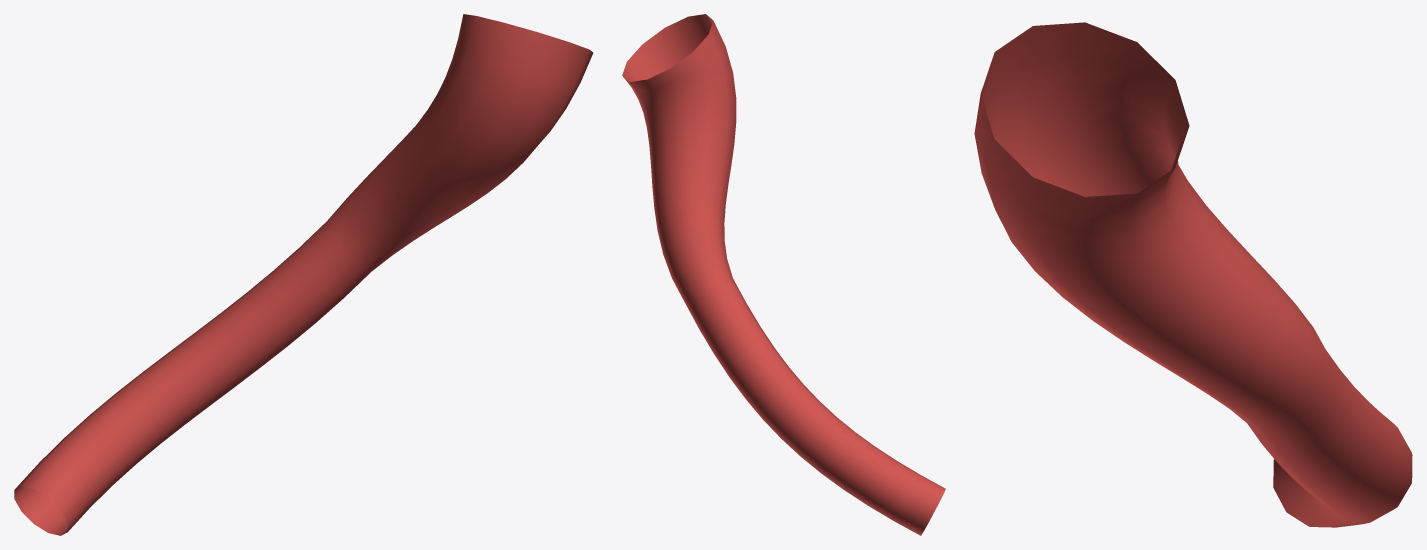
3 views of the same model, side by side, from view 1: azimuth 30°, elevation 25°; view 2: azimuth 150°, elevation 25°; view 3: azimuth 270°, elevation 25° (orthographic). The views are drawn at different scales.
Visible parts, largest first — view 1: 肝总动脉; view 2: 肝总动脉; view 3: 肝总动脉.
Boxes of the visible parts, x1,y1,x2,y2 form: 肝总动脉: (14, 14, 593, 535); 肝总动脉: (622, 14, 945, 535); 肝总动脉: (974, 22, 1412, 527).
Bounding box in the file's own units: 0.0476 × 0.0469 × 0.0239.
